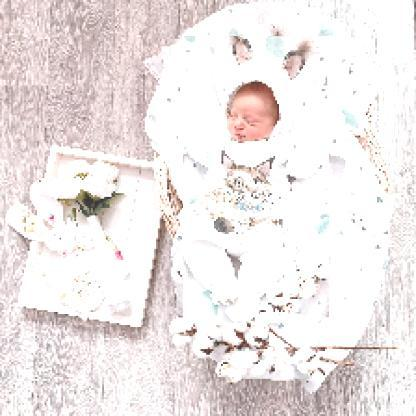child: (184, 37, 331, 325)
